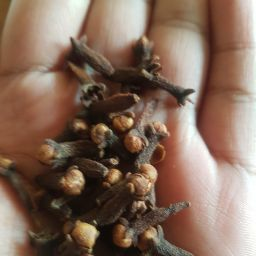Cloves: (6, 36, 212, 256), (65, 36, 202, 238)
